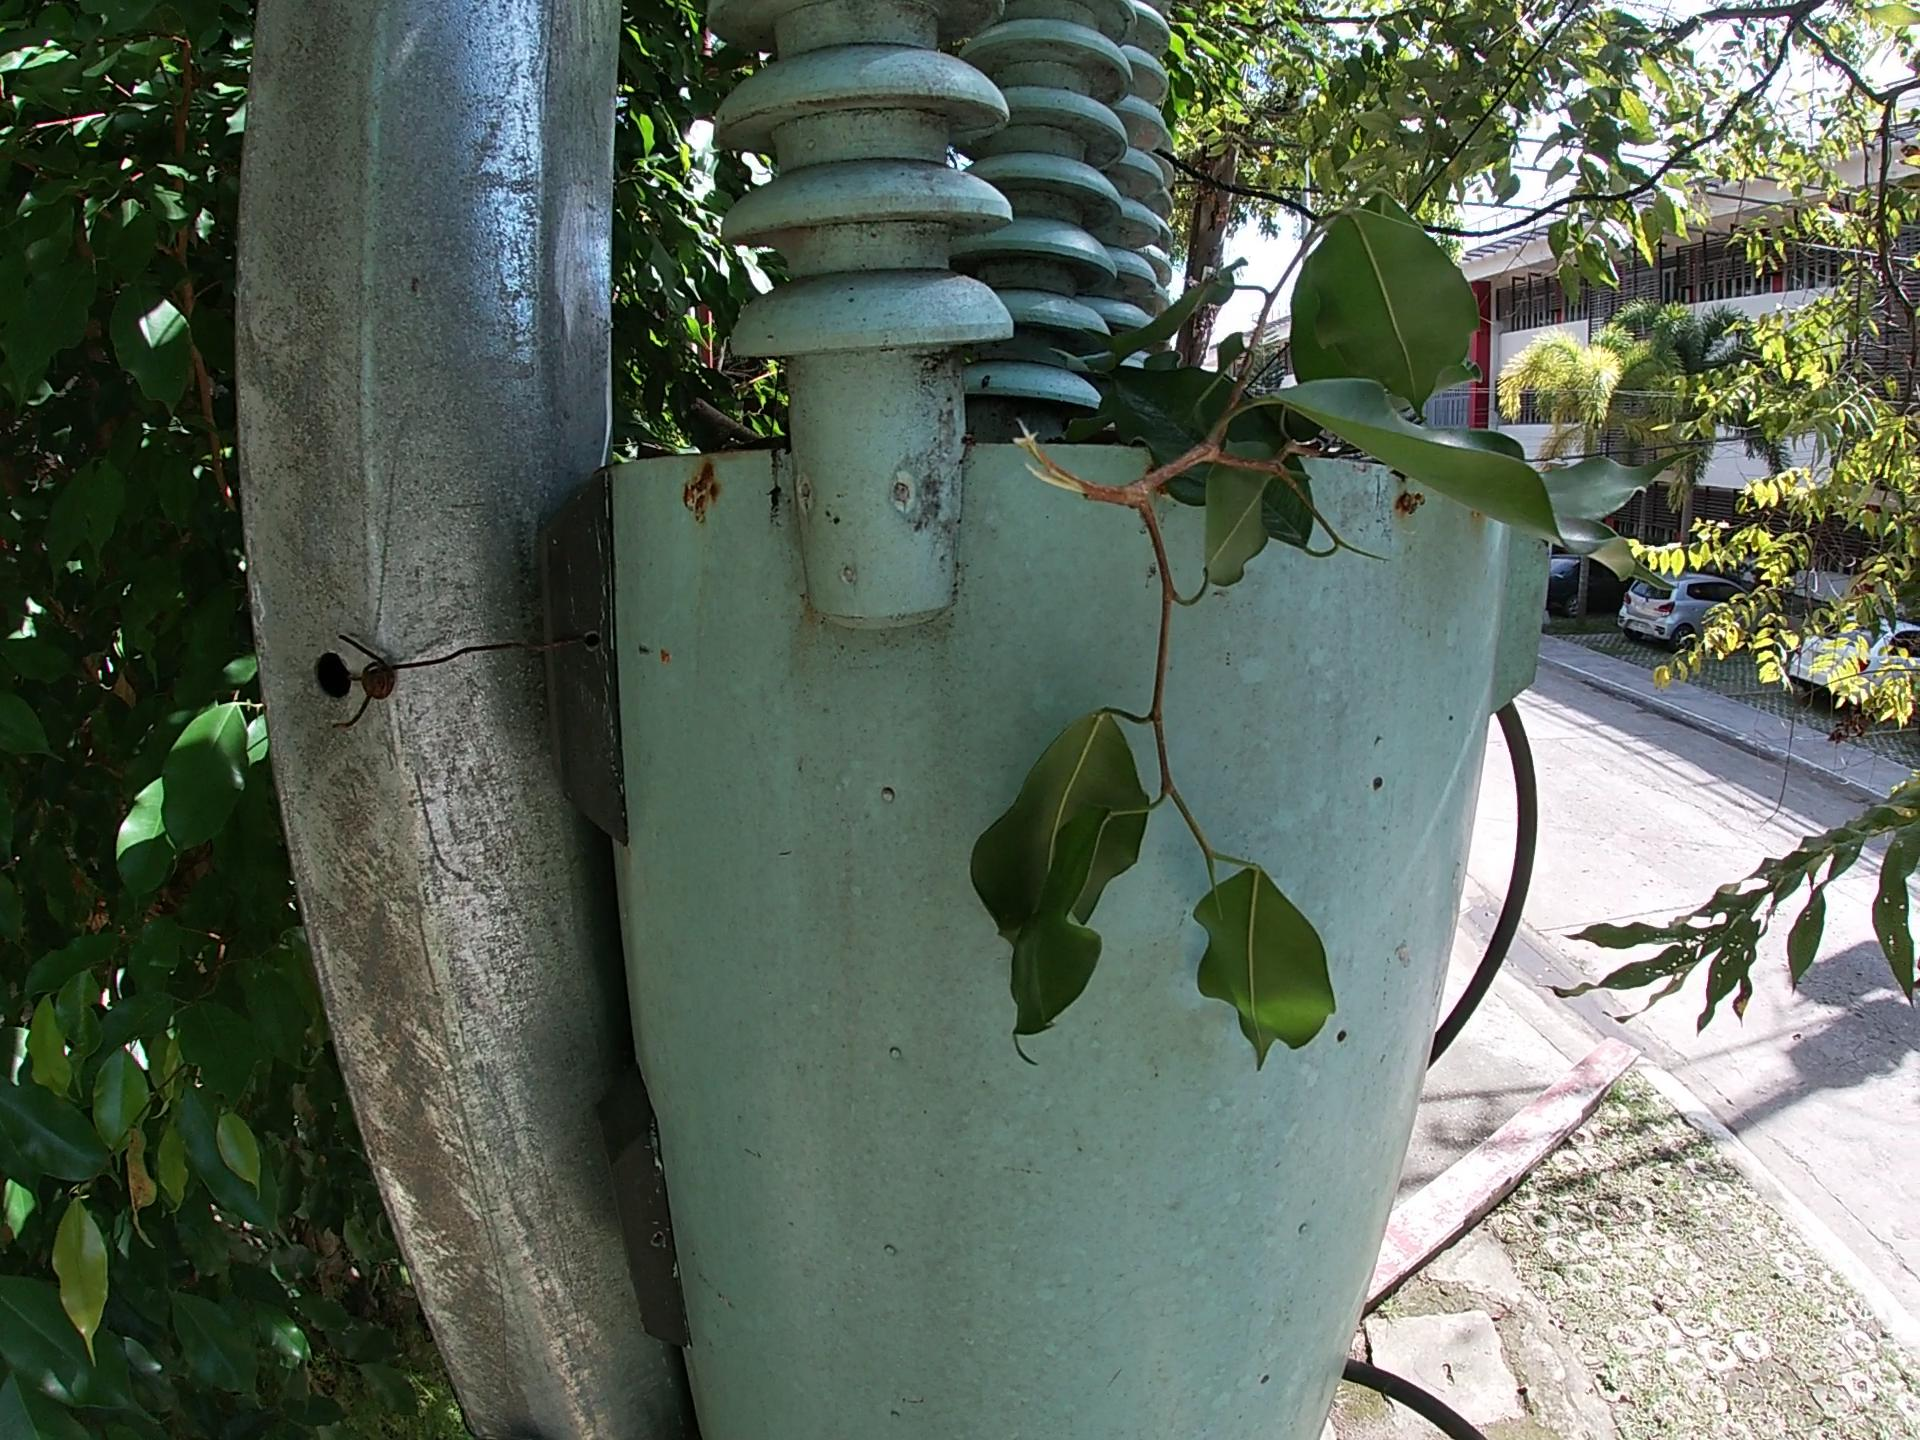branch with leaves: (966, 175, 1699, 1141)
leaf: (638, 434, 688, 470)
tree branch: (679, 396, 757, 440)
